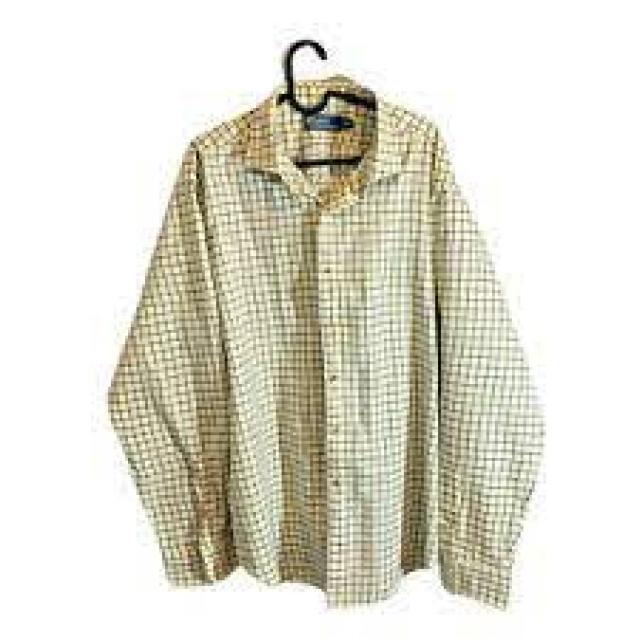plaid: (106, 77, 558, 616)
